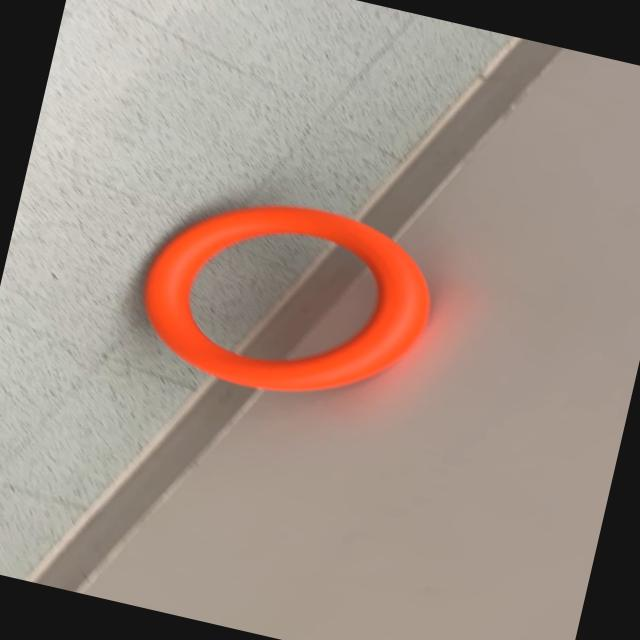note: (123, 172, 450, 425)
